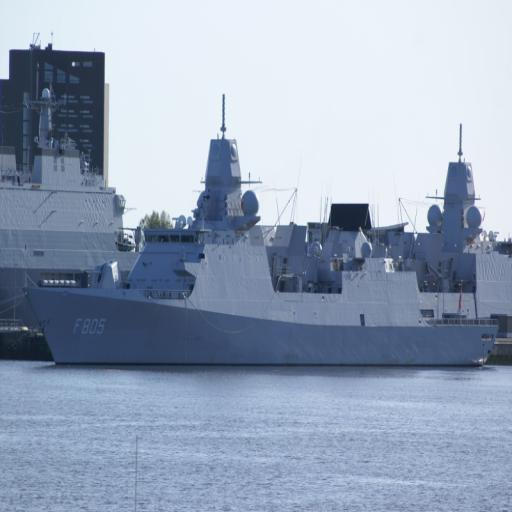Fragata: (24, 96, 499, 376)
